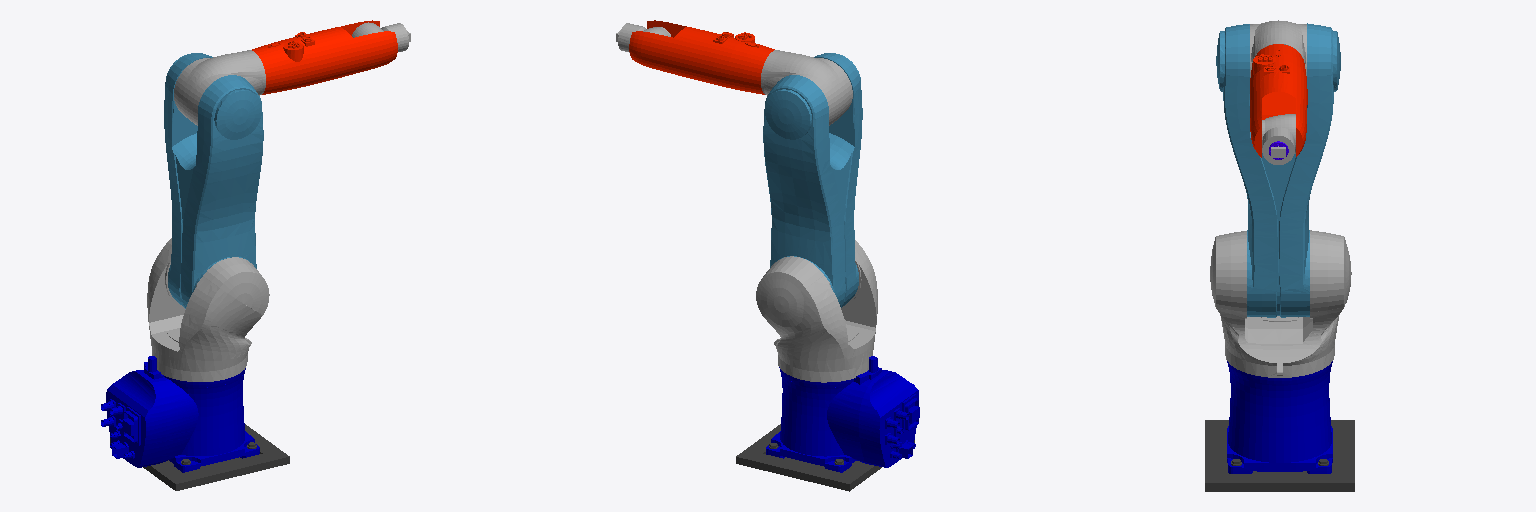
robot.urdf — kuca:
<?xml version="1.0" ?>
<robot name="kuca">
  <material name="DarkGrey">
    <color rgba="0.3 0.3 0.3 1.0"/>
  </material>
  <material name="Red">
    <color rgba="0.8 0.1 0.1 1.0"/>
  </material>
  <material name="Black">
    <color rgba="0 0 0 1.0"/>
  </material>
  <material name="Orange">
    <color rgba="1.46 0.18 0 1.0"/>
  </material>
  <material name="Purple">
    <color rgba="0.28 0 1 1.0"/>
  </material>
  <material name="Silver">
    <color rgba="0.7 0.7 0.7 1.0"/>
  </material>
  <material name="Blue">
    <color rgba="0.0 0.0 0.8 1.0"/>
  </material>
  <material name="HandGray">
    <color rgba="0.953 0.996 0.694 1.0"/>
  </material>
  <material name="SickBlue">
    <color rgba="0.3058 0.5921 0.7294 1.0"/>
  </material>
  <property name="M_PI" value="3.1415926535897931" />

  <link name="base_footprint"/>
  <joint name="base_joint" type="fixed">
    <parent link="base_footprint" />
    <child link="base_block" />
  </joint>
  <link name="base_block">
    <inertial>
      <origin
        xyz="1.037E-17 7.83691112281593E-18 0.0082118"
        rpy="0 0 0" />
      <mass
        value="1.4148" />
      <inertia
        ixx="0.0114960388311253"
        ixy="1.89424360274643E-19"
        ixz="2.69057794485044E-19"
        iyy="0.0114960388311253"
        iyz="5.63211128145318E-19"
        izz="0.0229111452195995" />
    </inertial>
    <visual>
      <origin
        xyz="0 0 0"
        rpy="1.5707963267949 0 -1.5707963267949" />
      <geometry>
        <mesh
          filename="package://kuca/meshes/base_block.STL" />
      </geometry>
      <material
        name="DarkGrey">
      </material>
    </visual>
    <collision>
      <origin
        xyz="0 0 0"
        rpy="1.5707963267949 0 -1.5707963267949" />
      <geometry>
        <mesh
          filename="package://kuca/meshes/base_block.STL" />
      </geometry>
    </collision>
  </link>


  <link
    name="base">
    <inertial>
      <origin
        xyz="5.6349E-05 -0.04397 -0.017791"
        rpy="0 0 0" />
      <mass
        value="10.172" />
      <inertia
        ixx="0.102023800624414"
        ixy="-0.000107116174504951"
        ixz="-9.75248573495788E-06"
        iyy="0.062609943615707"
        iyz="-0.00142550304062349"
        izz="0.0916918280232079" />
    </inertial>
    <visual>
      <origin
        xyz="0 0 0"
        rpy="1.5707963267949 0 -1.5707963267949" />
      <geometry>
        <mesh
          filename="package://kuca/meshes/base.STL" />
      </geometry>
      <material
        name="Blue">
      </material>
    </visual>
    <collision>
      <origin
        xyz="0 0 0"
        rpy="1.5707963267949 0 -1.5707963267949" />
      <geometry>
        <mesh
          filename="package://kuca/meshes/base.STL" />
      </geometry>
    </collision>
  </link>


  <link
    name="shoulder_link">
    <inertial>
      <origin
        xyz="0.0026224 -0.010587 0.12449"
        rpy="0 0 0" />
      <mass
        value="6.8543" />
      <inertia
        ixx="0.0603332762386758"
        ixy="-0.000112250807649033"
        ixz="0.000740664456382333"
        iyy="0.0888387681852521"
        iyz="0.00782667396558345"
        izz="0.0647349454810532" />
    </inertial>
    <visual>
      <origin
        xyz="0 0 0"
        rpy="1.5707963267949 0 1.5707963267949" />
      <geometry>
        <mesh
          filename="package://kuca/meshes/shoulder.STL" />
      </geometry>
      <material
        name="Silver">
      </material>
    </visual>
    <collision>
      <origin
        xyz="0 0 0"
        rpy="1.5707963267949 0 1.5707963267949" />
      <geometry>
        <mesh
          filename="package://kuca/meshes/shoulder.STL" />
      </geometry>
    </collision>
  </link>




  <link
    name="arm_b">
    <inertial>
      <origin
        xyz="0.00011216 2.06500000013295E-07 0.21713"
        rpy="0 0 0" />
      <mass
        value="11.489" />
      <inertia
        ixx="0.331397608900224"
        ixy="2.49938270567373E-08"
        ixz="-0.000215486662794939"
        iyy="0.344625387728064"
        iyz="-1.88762475058406E-07"
        izz="0.0590170414718575" />
    </inertial>
    <visual>
      <origin
        xyz="0 0 0"
        rpy="1.5707963267949 0 -1.5707963267949" />
      <geometry>
        <mesh
          filename="package://kuca/meshes/arm_b.STL" />
      </geometry>
      <material
        name="SickBlue">
      </material>
    </visual>
    <collision>
      <origin
        xyz="0 0 0"
        rpy="1.5707963267949 0 -1.5707963267949" />
      <geometry>
        <mesh
          filename="package://kuca/meshes/arm_b.STL" />
      </geometry>
    </collision>
  </link>


  <link
    name="elbow_link">
    <inertial>
      <origin
        xyz="-4.7606E-07 -0.01528 0.0092017"
        rpy="0 0 0" />
      <mass
        value="2.755" />
      <inertia
        ixx="0.0104371376924703"
        ixy="2.6533905193E-08"
        ixz="-4.60729058315338E-08"
        iyy="0.00758558375613676"
        iyz="0.00135288427713708"
        izz="0.00932285267361665" />
    </inertial>
    <visual>
      <origin
        xyz="0 0 0"
        rpy="1.5707963267949 0 1.5707963267949" />
      <geometry>
        <mesh
          filename="package://kuca/meshes/elbow.STL" />
      </geometry>
      <material
        name="Silver">
      </material>
    </visual>
    <collision>
      <origin
        xyz="0 0 0"
        rpy="1.5707963267949 0 1.5707963267949" />
      <geometry>
        <mesh
          filename="package://kuca/meshes/elbow.STL" />
      </geometry>
    </collision>
  </link>


  <link
    name="arm_s">
    <inertial>
      <origin
        xyz="0.13364 -0.00024742 0.00047158"
        rpy="0 0 0" />
      <mass
        value="2.7294" />
      <inertia
        ixx="0.00460008200188941"
        ixy="3.62991158649236E-05"
        ixz="-5.99299167518797E-05"
        iyy="0.0196337744489857"
        iyz="3.41608949422413E-05"
        izz="0.0199430288231592" />
    </inertial>
    <visual>
      <origin
        xyz="0 0 0"
        rpy="1.5707963267949 0 0" />
      <geometry>
        <mesh
          filename="package://kuca/meshes/arm_s.STL" />
      </geometry>
      <material
        name="Orange">
      </material>
    </visual>
    <collision>
      <origin
        xyz="0 0 0"
        rpy="1.5707963267949 0 0" />
      <geometry>
        <mesh
          filename="package://kuca/meshes/arm_s.STL" />
      </geometry>
    </collision>
  </link>


  <link
    name="hand_base">
    <inertial>
      <origin
        xyz="-4.3071E-18 -0.0059096 4.77958466854274E-17"
        rpy="0 0 0" />
      <mass
        value="0.013336" />
      <inertia
        ixx="1.69048792206978E-06"
        ixy="2.35299624289122E-22"
        ixz="-7.52863604393964E-22"
        iyy="2.98903665829106E-06"
        iyz="2.34800683625242E-21"
        izz="1.69048792206977E-06" />
    </inertial>
    <visual>
      <origin
        xyz="0 0 0"
        rpy="1.5707963267949 0 1.5707963267949" />
      <geometry>
        <mesh
          filename="package://kuca/meshes/hand_base.STL" />
      </geometry>
      <material
        name="Purple">
      </material>
    </visual>
    <collision>
      <origin
        xyz="0 0 0"
        rpy="1.5707963267949 0 1.5707963267949" />
      <geometry>
        <mesh
          filename="package://kuca/meshes/hand_base.STL" />
      </geometry>
    </collision>
  </link>


  <link
    name="wrist_link">
    <inertial>
      <origin
        xyz="0.0020848 -0.015368 3.4479000000941E-08"
        rpy="0 0 0" />
      <mass
        value="0.44218" />
      <inertia
        ixx="0.000527507627789706"
        ixy="1.79837648816872E-05"
        ixz="-7.11888768534321E-10"
        iyy="0.00031938655071935"
        iyz="-5.96429677534505E-10"
        izz="0.000560139929899567" />
    </inertial>
    <visual>
      <origin
        xyz="0 0 0"
        rpy="1.5707963267949 0 1.5707963267949" />
      <geometry>
        <mesh
          filename="package://kuca/meshes/wrist.STL" />
      </geometry>
      <material
        name="Silver">
      </material>
    </visual>
    <collision>
      <origin
        xyz="0 0 0"
        rpy="1.5707963267949 0 1.5707963267949" />
      <geometry>
        <mesh
          filename="package://kuca/meshes/wrist.STL" />
      </geometry>
    </collision>
  </link>

  <joint name="fixed_joint" type="fixed">
    <origin xyz="0 0 0.14336"/>
    <parent link="base_block"/>
    <child link="base"/>
  </joint>
  <joint name="base_shoulder_joint" type="revolute">
    <origin xyz="0 0 0.08657"/>
    <limit lower="-2.7925" upper="2.7925" velocity="1.571" effort="1.0"/>
    <axis xyz="0 0 1"/>
    <parent link="base"/>
    <child link="shoulder_link"/>
  </joint>
  <joint name="shoulder_armb_joint" type="continuous">
    <origin xyz="0.03487 -0.0028 0.19512"/>
    <axis xyz="0 1 0" />
    <parent link="shoulder_link"/>
    <child link="arm_b"/>
  </joint>  
  <joint name="armb_elbow_joint" type="continuous">
    <origin xyz="0 0 0.46634"/>
    <axis xyz="0 1 0" />
    <parent link="arm_b"/>
    <child link="elbow_link"/>
  </joint>  
  <joint name="elbow_arms_joint" type="continuous">
    <origin xyz="0.1165 0 0.035"/>
    <axis xyz="1 0 0" />
    <parent link="elbow_link"/>
    <child link="arm_s"/>
  </joint>  
  <joint name="arms_handbase_joint" type="continuous">
    <origin xyz="0.303 0 0"/>
    <axis xyz="0 1 0" />
    <parent link="arm_s"/>
    <child link="wrist_link"/>
  </joint>
  <joint name="handbase_wrist_joint" type="continuous">
    <origin xyz="0.066252 0 0"/>
    <axis xyz="1 0 0" />
    <parent link="wrist_link"/>
    <child link="hand_base"/>
  </joint>

  
  <link name="gripper_base">
    <inertial>
      <origin
        xyz="2.3164E-19 8.88976163462408E-19 0.011563"
        rpy="0 0 0" />
      <mass
        value="0.0091416" />
      <inertia
        ixx="5.60915290578536E-07"
        ixy="-3.0881409535313E-23"
        ixz="-2.26976902761232E-23"
        iyy="8.10915290578536E-07"
        iyz="-1.05731144748763E-23"
        izz="8.0707963267949E-07" />
    </inertial>
    <visual>
      <origin
        xyz="0 0 0"
        rpy="0 0 -1.5707963267949" />
      <geometry>
        <mesh
          filename="package://kuca/meshes/gripper_base.STL" />
      </geometry>
      <material
        name="Silver">
      </material>
    </visual>
    <collision>
      <origin
        xyz="0 0 0"
        rpy="0 0 -1.5707963267949" />
      <geometry>
        <mesh
          filename="package://kuca/meshes/gripper_base.STL" />
      </geometry>
    </collision>
  </link>
  
  <joint name="handbase_gripperbase_joint" type="fixed">
    <origin xyz="0.0060 0 0"/>
    <parent link="hand_base"/>
    <child link="gripper_base"/>
  </joint>

  <joint name="gripper_joint" type="fixed">
    <origin rpy="0 0 0" xyz="0.030 0 0"/>
    <parent link="gripper_base"/>
    <child link="gripper_link"/>
  </joint>
  <link name="gripper_link"/>

</robot>

--- Render facts (derived) ---
The picture shows the robot from 3 angles, left to right: view 1: azimuth 30°, elevation 25°; view 2: azimuth 150°, elevation 25°; view 3: azimuth 270°, elevation 25°; orthographic projection.
Model kuca with 11 links and 10 joints (1 revolute, 5 continuous, 4 fixed), rooted at base_footprint, posed all joints at 0.
Visible links, largest first — view 1: arm_b, base, shoulder_link, arm_s, elbow_link, base_block, wrist_link; view 2: arm_b, base, shoulder_link, arm_s, elbow_link, base_block, wrist_link; view 3: arm_b, shoulder_link, base, base_block, arm_s, elbow_link, wrist_link.
Link boxes in pixels (x1,y1,x2,y2): arm_b: (164, 53, 263, 308); base: (101, 356, 259, 472); shoulder_link: (147, 238, 269, 381); arm_s: (252, 20, 397, 94); elbow_link: (174, 50, 265, 125); base_block: (110, 424, 289, 490); wrist_link: (352, 22, 408, 51); arm_b: (763, 53, 862, 307); base: (766, 356, 919, 472); shoulder_link: (756, 240, 877, 382); arm_s: (629, 20, 774, 94); elbow_link: (761, 50, 852, 125); base_block: (736, 424, 914, 491); wrist_link: (618, 23, 670, 52); arm_b: (1216, 23, 1340, 317); shoulder_link: (1210, 230, 1351, 377); base: (1227, 361, 1332, 473); base_block: (1205, 420, 1354, 491); arm_s: (1250, 44, 1307, 157); elbow_link: (1250, 20, 1306, 77); wrist_link: (1262, 114, 1295, 164).
Size in the robot's own frame: 0.7716 by 0.3 by 0.9899 metres.
Meshes: 9 distinct files referenced, 9 mesh visuals loaded (9 binary STL).
